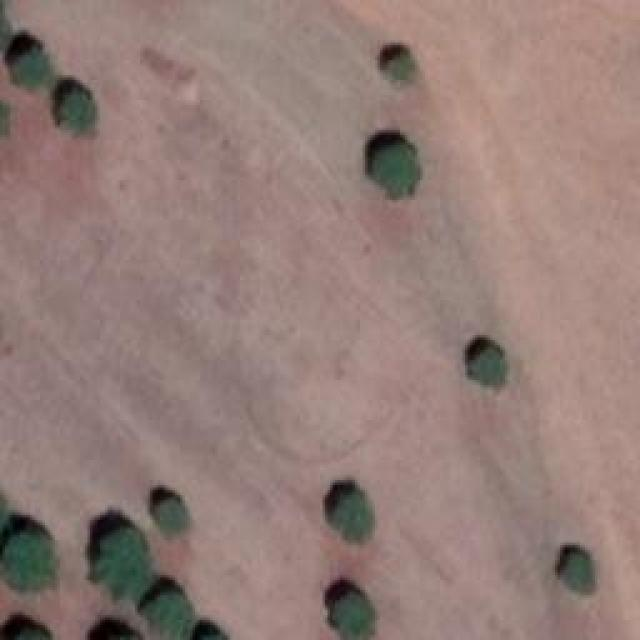Tree: (85, 525, 150, 603), (3, 532, 66, 590), (365, 138, 420, 201), (135, 587, 192, 640), (325, 483, 373, 543), (462, 342, 510, 390), (58, 90, 103, 140), (330, 590, 375, 640), (5, 43, 48, 93), (555, 548, 593, 591), (378, 50, 421, 83), (155, 495, 188, 535), (13, 625, 63, 640)
